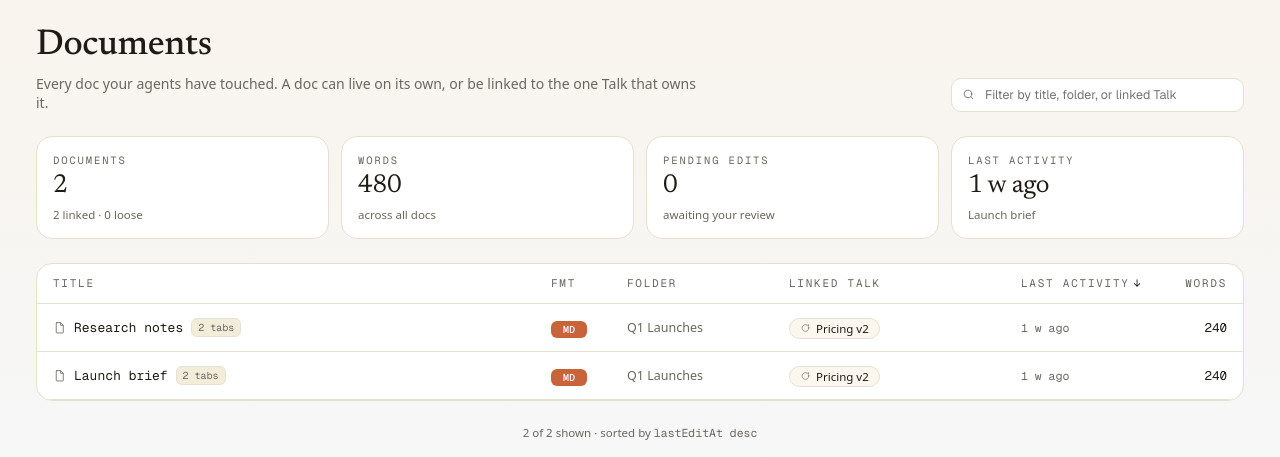
Test: DocumentsPage › filters rows by title
Expected: the link "Launch brief" is shown, [74,367,168,384]
Type "research" into the field named "Filter documents" at (1108,95), box [983,85,1233,104]
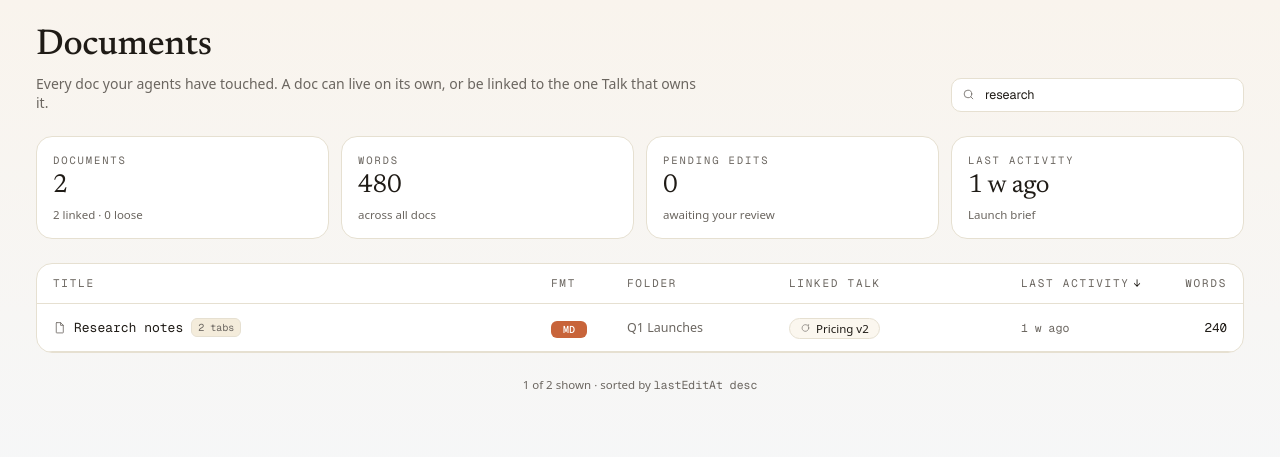
Expected: the link "Research notes" is shown, [74,319,183,336]
Expected: the text "1 of 2 shown · sorted by lastEditAt desc" is shown, [523,377,757,392]
